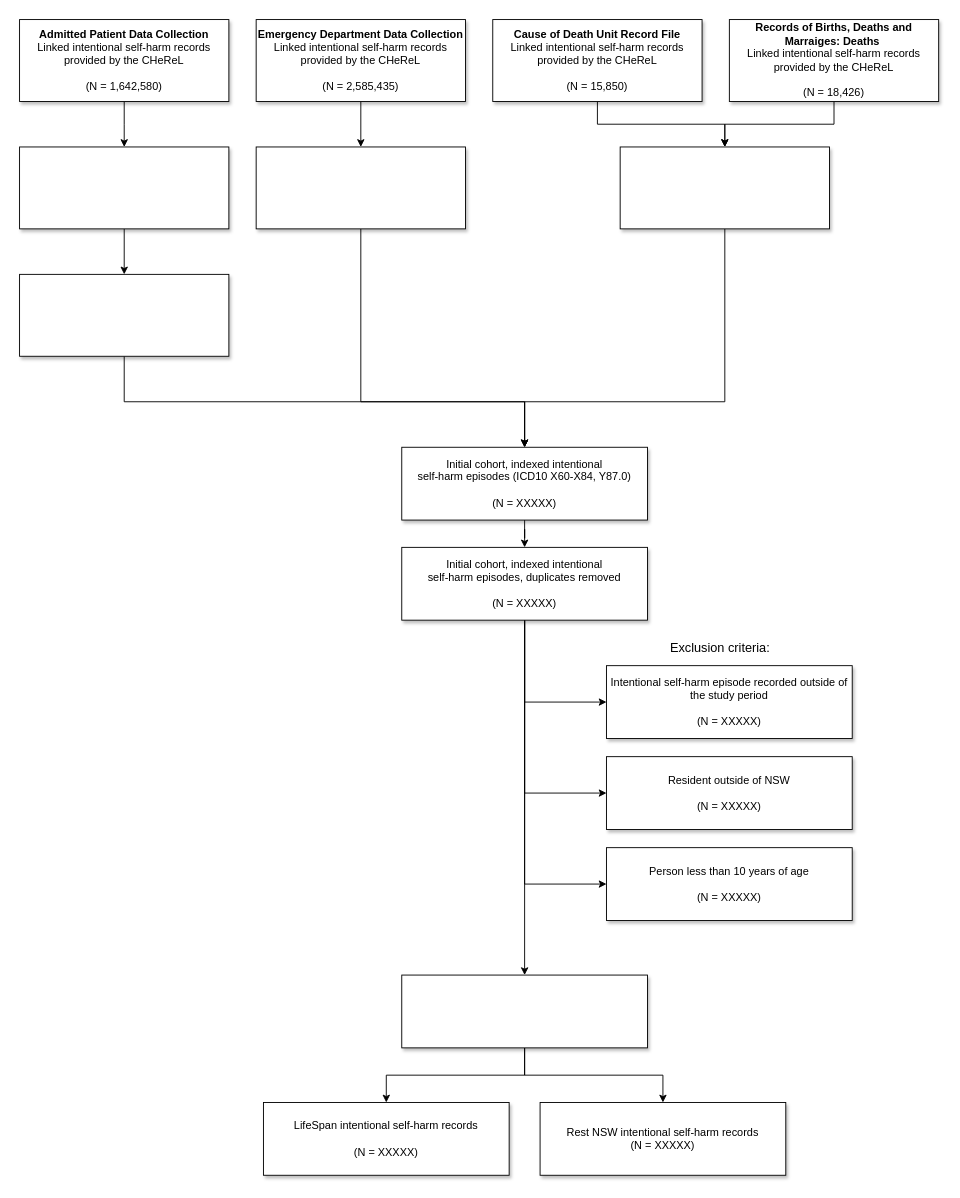
This 960x1198 diagram has some shape labels left out. Here are the shapes that lost their labels. From the top down, the centre of each, then its label:
the point at 124,188: Establish contiguous episodes of care per admission by PPN (N = XXXXX)
the point at 361,188: Indexed intentional self-harm emergency department admissions (N = XXXXX)
the point at 725,188: Indexed intentional self-harm deaths (N = XXXXX)
the point at 124,316: Indexed intentional self-harm hospital admissions (N = XXXXX)
the point at 525,1012: Total intentional self-harm records returned (N = XXXXX)
